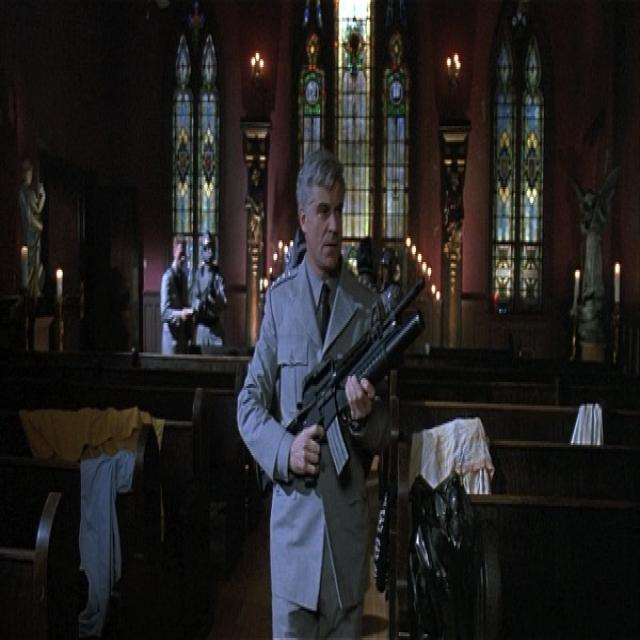rifle: (283, 272, 439, 487)
